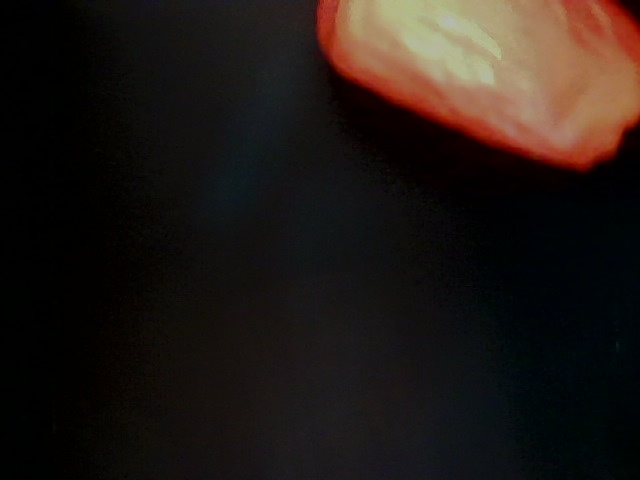YHLJ: (367, 24, 479, 94)
